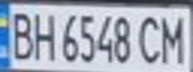4: (93, 11, 115, 64)
5: (75, 10, 96, 63)
6: (57, 9, 81, 63)
8: (112, 11, 136, 64)
B: (6, 8, 36, 61)
C: (136, 11, 163, 65)
H: (30, 8, 57, 62)
M: (157, 11, 190, 65)
